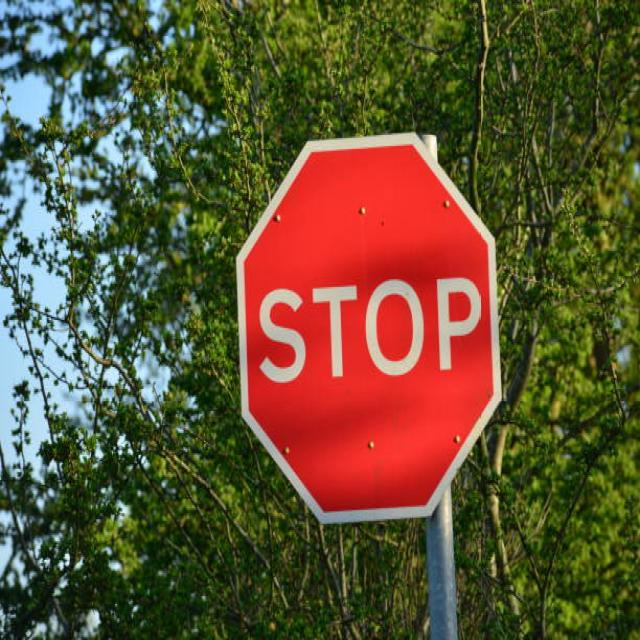stop: (227, 128, 510, 531)
